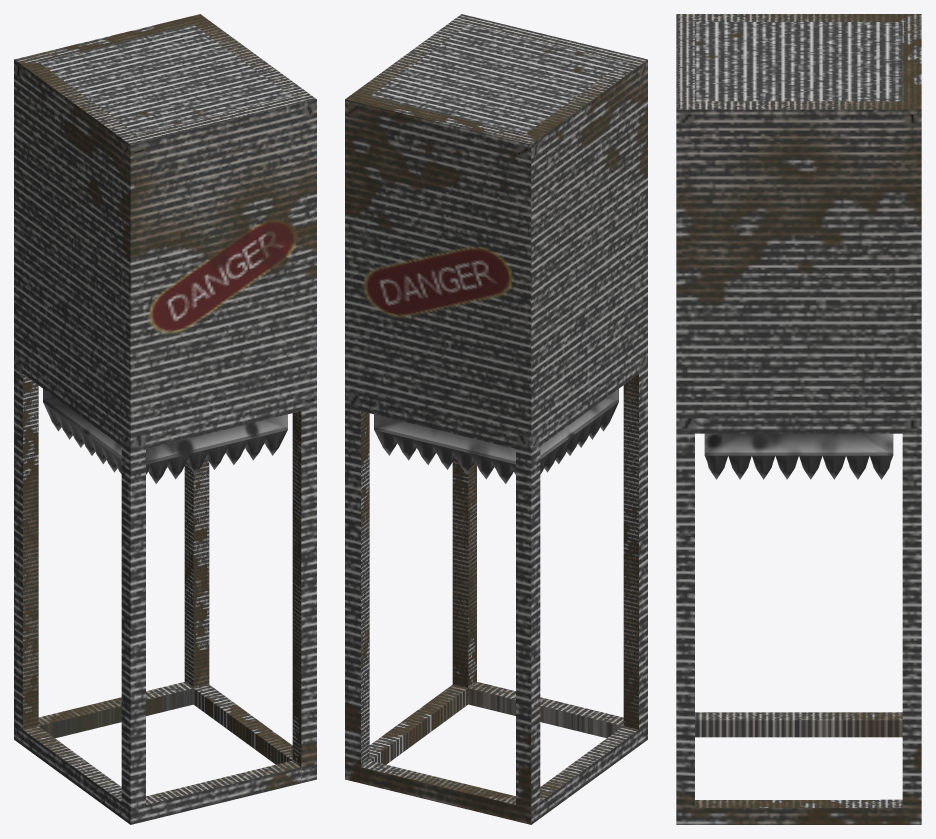
File: stomper.fbx
3 views of the same model, side by side, from view 1: azimuth 30°, elevation 25°; view 2: azimuth 150°, elevation 25°; view 3: azimuth 270°, elevation 25° (orthographic). The views are drawn at different scales.
Visible parts, largest first — view 1: pCube4, pCube1; view 2: pCube4, pCube1; view 3: pCube4, pCube1.
Boxes of the visible parts, box(x1,y1,x2,y2) form: pCube4: box(14, 14, 316, 824); pCube1: box(43, 389, 287, 483); pCube4: box(345, 14, 647, 824); pCube1: box(374, 389, 618, 483); pCube4: box(676, 14, 921, 824); pCube1: box(704, 433, 893, 479).
Bounding box in the file's own units: 6 × 20.94 × 6.5.
